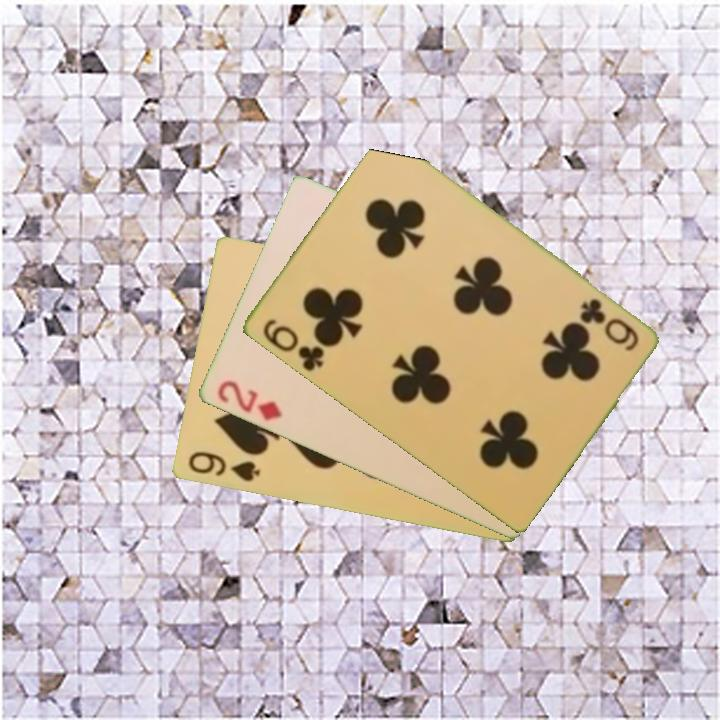2d: (213, 377, 285, 424)
6c: (258, 315, 327, 375), (576, 294, 642, 354)
9s: (184, 448, 263, 485)
